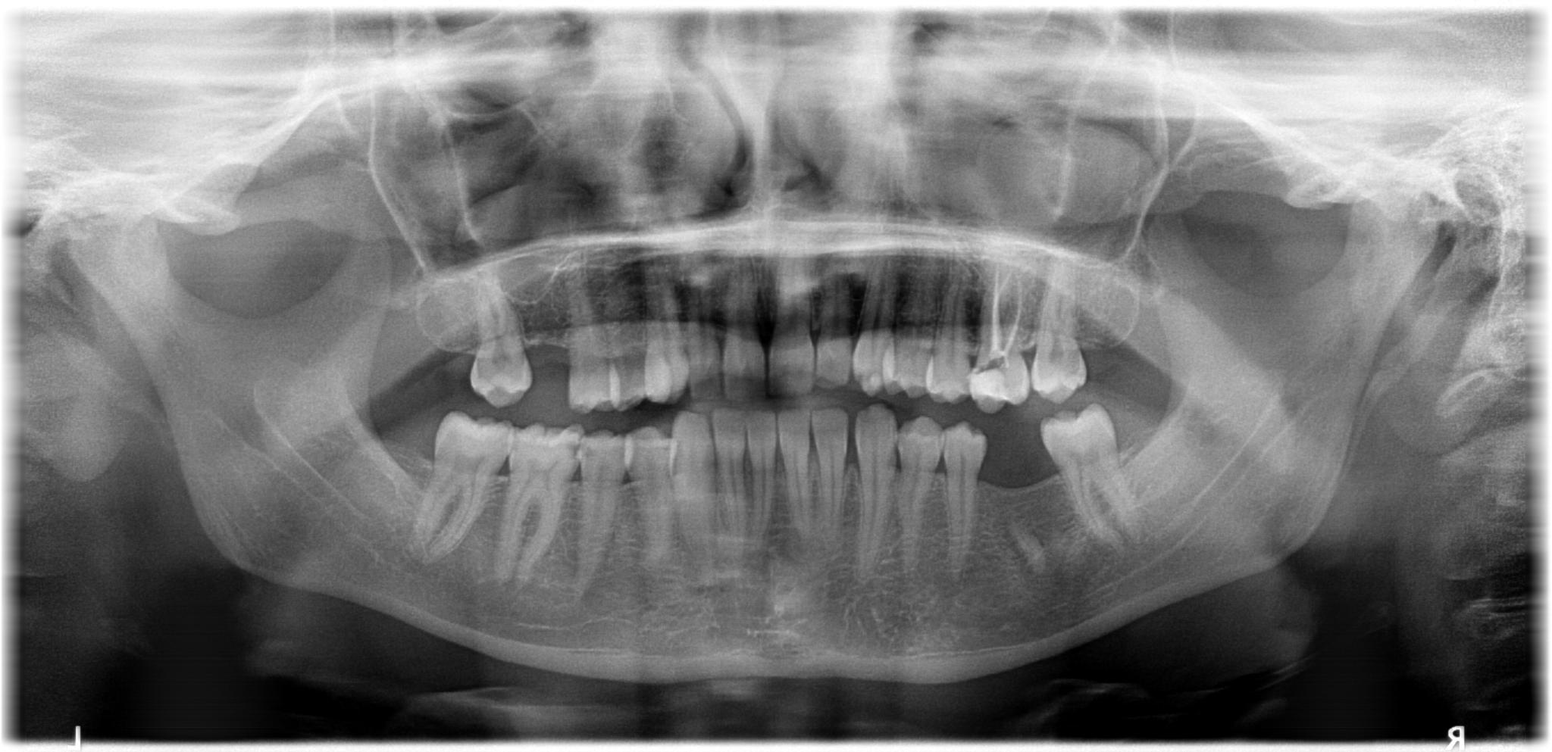Premolars: (494, 210, 1502, 621), (310, 259, 944, 723), (280, 260, 867, 721)
